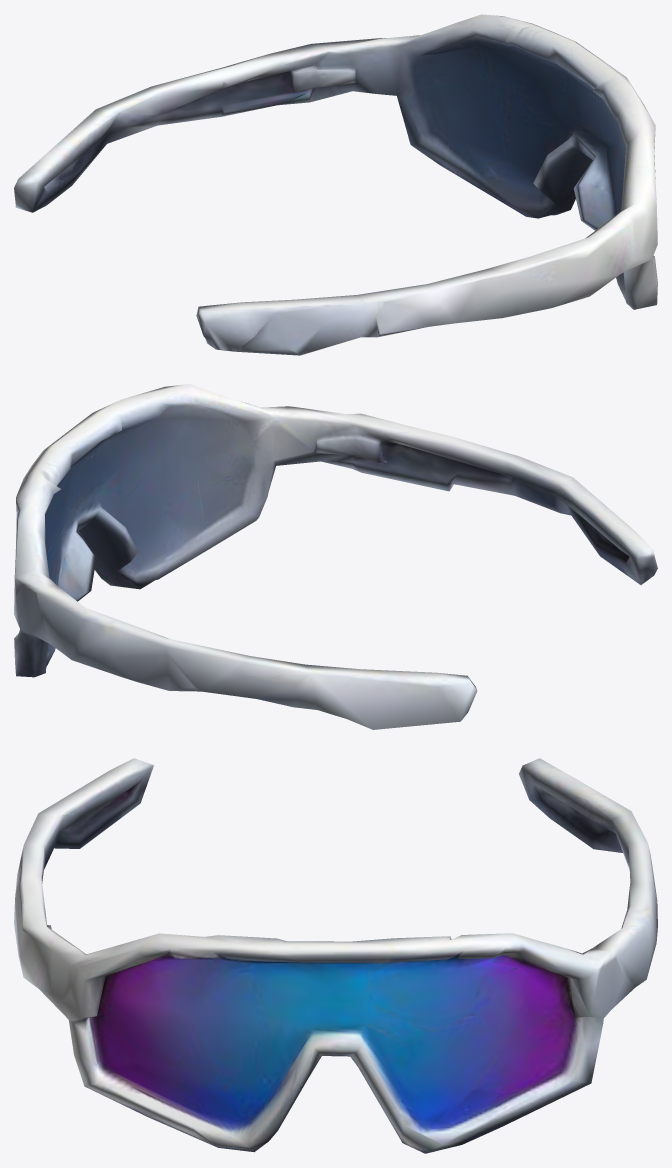
Rendered from oculos.glb.
3 views of the same model, one above another, from view 1: azimuth 30°, elevation 25°; view 2: azimuth 150°, elevation 25°; view 3: azimuth 270°, elevation 25° (orthographic). The views are drawn at different scales.
Parts seen in each view (by area): view 1: tripo_node_584b54de-9743-4e0e-9aa4-69b4ebffc707; view 2: tripo_node_584b54de-9743-4e0e-9aa4-69b4ebffc707; view 3: tripo_node_584b54de-9743-4e0e-9aa4-69b4ebffc707.
Boxes of the visible parts, bbox=[...] form: tripo_node_584b54de-9743-4e0e-9aa4-69b4ebffc707: bbox=[14, 14, 657, 355]; tripo_node_584b54de-9743-4e0e-9aa4-69b4ebffc707: bbox=[14, 384, 657, 729]; tripo_node_584b54de-9743-4e0e-9aa4-69b4ebffc707: bbox=[14, 758, 657, 1153].
Bounding box in the file's own units: 1 × 0.3552 × 0.983.
Materials: 1 (1 with a texture image).
